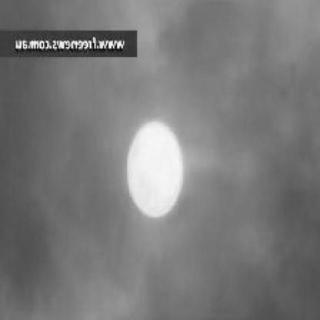other: (87, 98, 227, 246)
